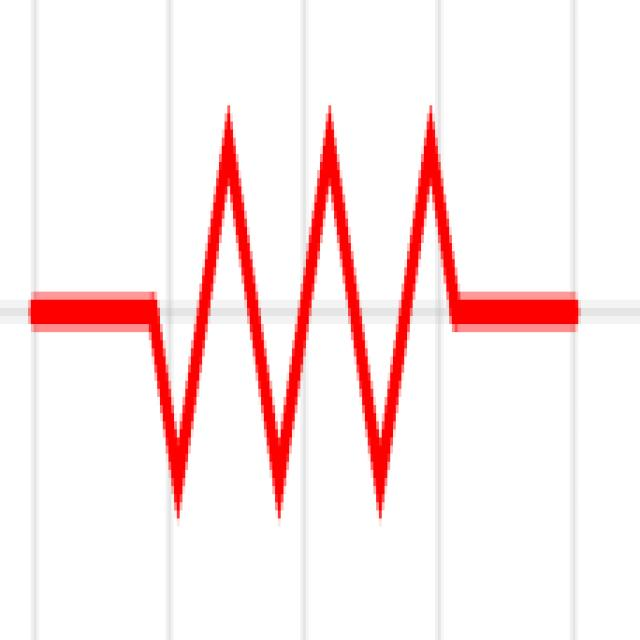res: (15, 22, 611, 595)
